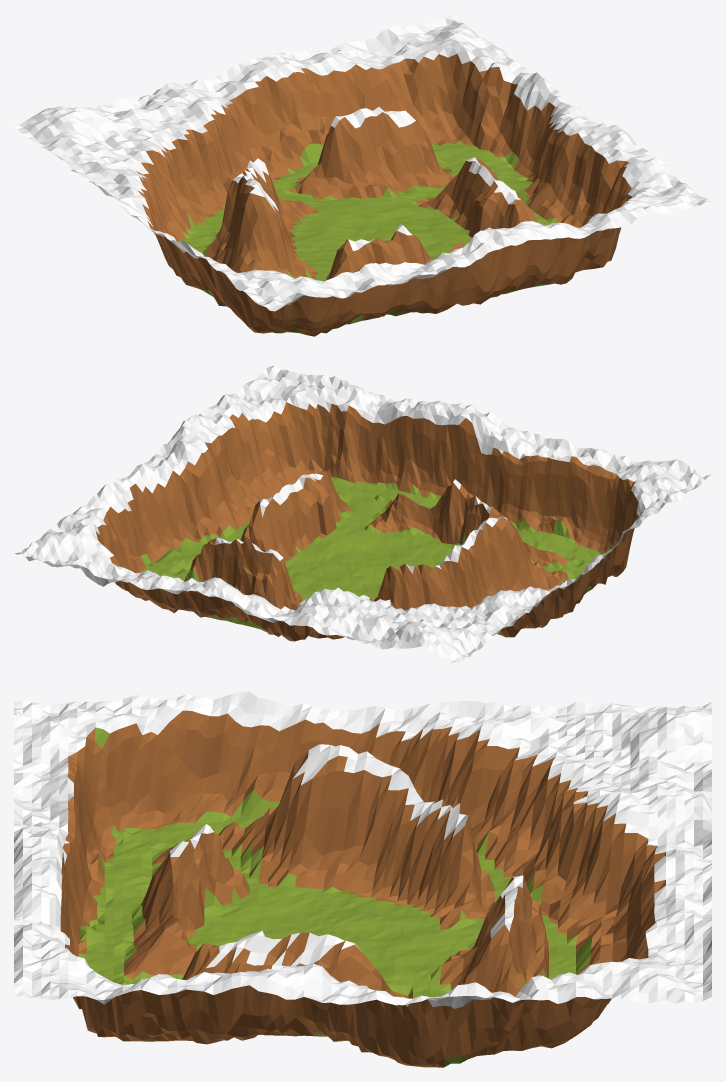
File: terrain.fbx
3 views of the same model, one above another, from view 1: azimuth 30°, elevation 25°; view 2: azimuth 150°, elevation 25°; view 3: azimuth 270°, elevation 25° (orthographic). The views are drawn at different scales.
Parts seen in each view (by area): view 1: Plane; view 2: Plane; view 3: Plane.
Boxes of the visible parts, x1,y1,x2,y2 form: Plane: [14, 14, 711, 336]; Plane: [14, 365, 710, 662]; Plane: [14, 691, 711, 1067].
Bounding box in the file's own units: 1000 × 198 × 1000.
